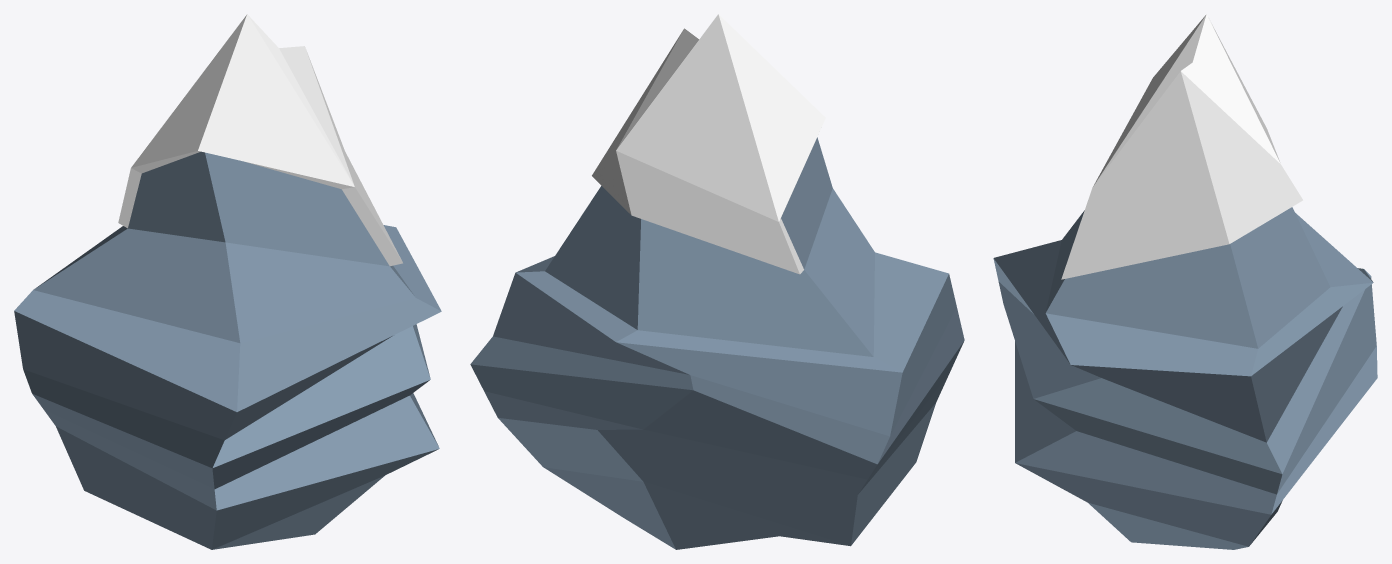
Rendered from Rock_1.fbx.
3 views of the same model, side by side, from view 1: azimuth 30°, elevation 25°; view 2: azimuth 150°, elevation 25°; view 3: azimuth 270°, elevation 25° (orthographic). The views are drawn at different scales.
Parts seen in each view (by area): view 1: M_Rock 1; view 2: M_Rock 1; view 3: M_Rock 1.
Boxes of the visible parts, bbox=[...] form: M_Rock 1: bbox=[14, 14, 441, 549]; M_Rock 1: bbox=[470, 14, 964, 549]; M_Rock 1: bbox=[993, 14, 1377, 549].
Size of the model in its own units: 2.96 by 3.52 by 2.39.
1 material, 1 textured.
